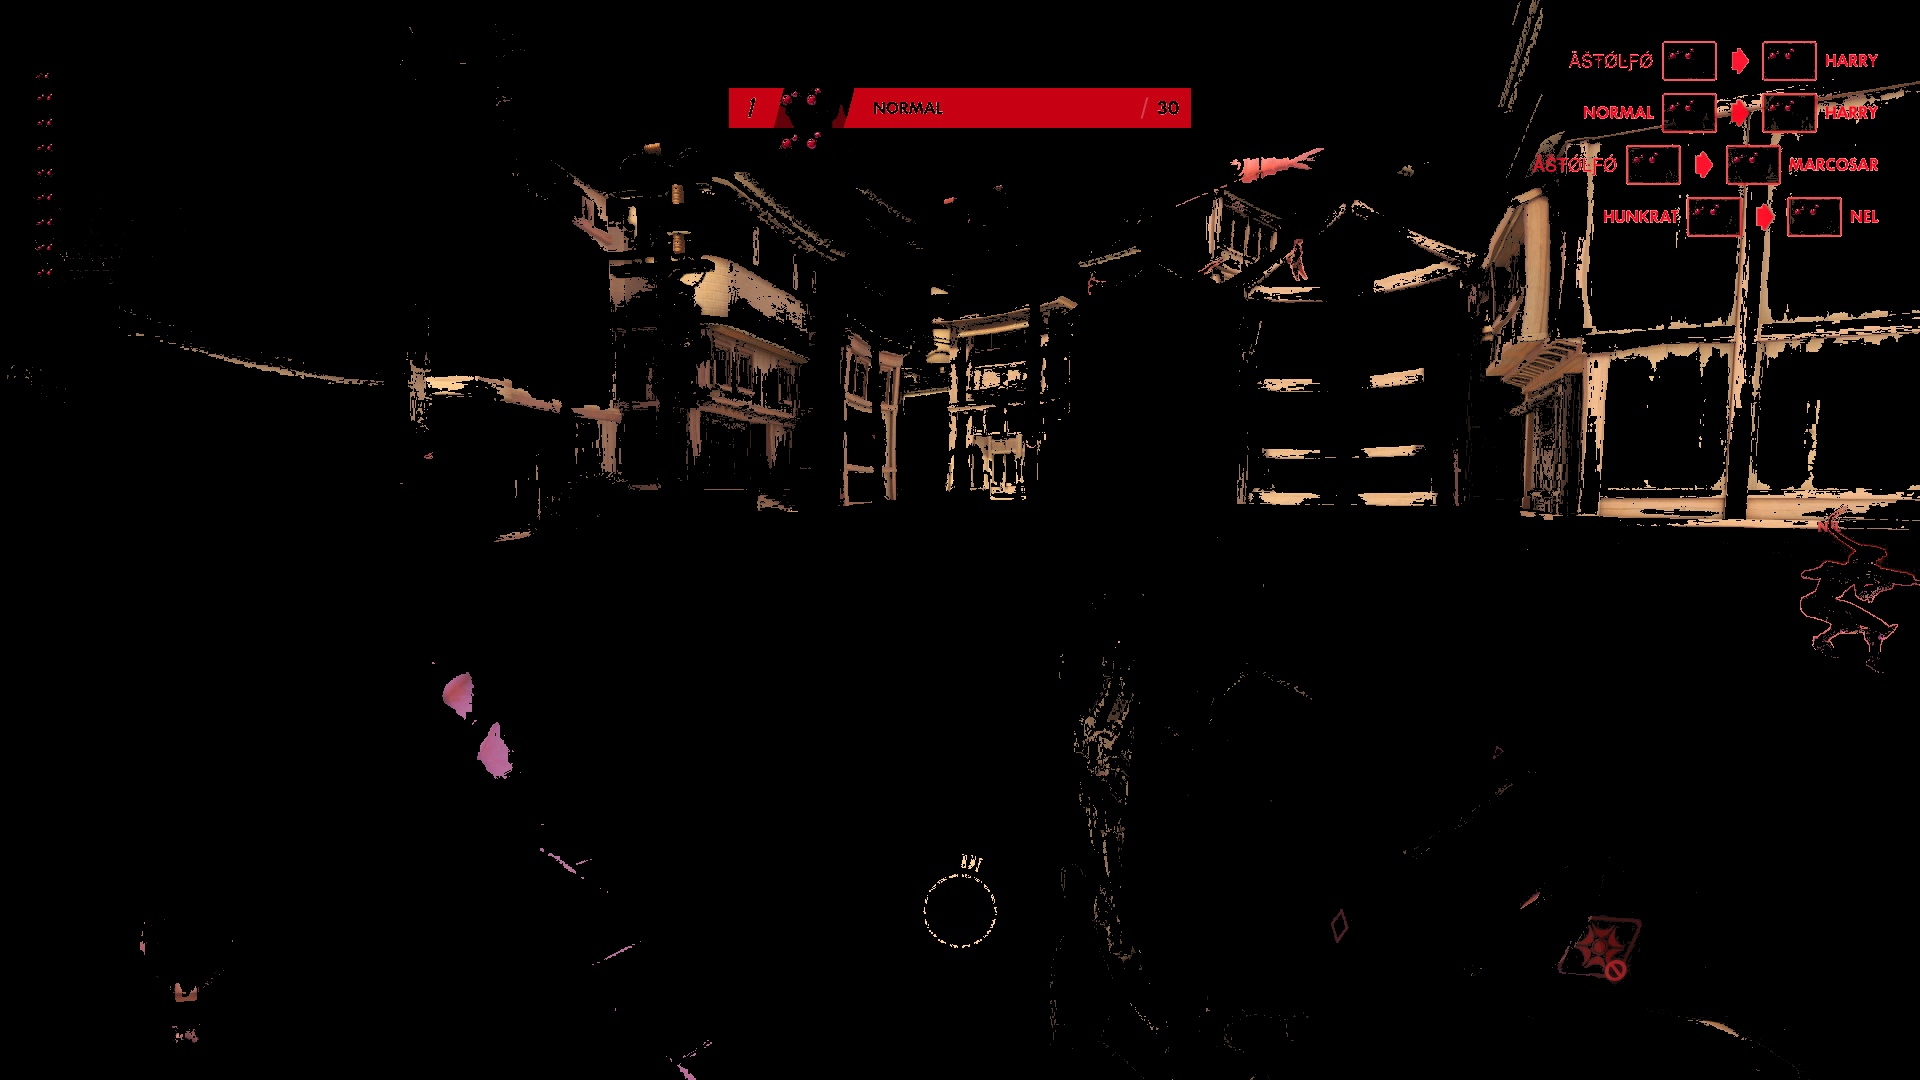widowmaker: (1804, 535, 1920, 669), (1284, 235, 1311, 284), (1083, 274, 1108, 295)
